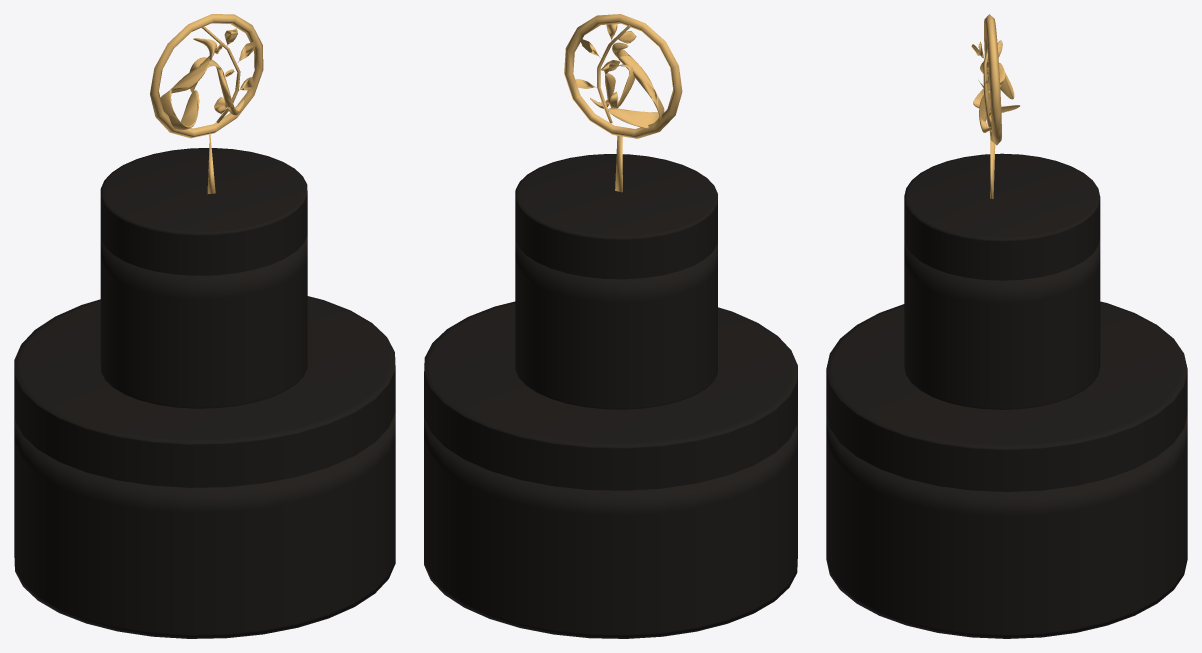
The model's file is 2-tier-black-none-ring.glb.
3 views of the same model, side by side, from view 1: azimuth 30°, elevation 25°; view 2: azimuth 150°, elevation 25°; view 3: azimuth 270°, elevation 25° (orthographic). The views are drawn at different scales.
Visible parts, largest first — view 1: Cylinder.023, Cylinder.013, Cylinder.011; view 2: Cylinder.023, Cylinder.013, Cylinder.011; view 3: Cylinder.023, Cylinder.013, Cylinder.011.
Part boxes in pixels (box(x1,y1,x2,y2)): Cylinder.023: box(14, 296, 395, 638); Cylinder.013: box(100, 148, 307, 408); Cylinder.011: box(150, 14, 263, 193); Cylinder.023: box(424, 301, 797, 638); Cylinder.013: box(515, 154, 717, 409); Cylinder.011: box(564, 14, 682, 192); Cylinder.023: box(826, 301, 1187, 638); Cylinder.013: box(904, 153, 1100, 409); Cylinder.011: box(971, 14, 1019, 198).
Bounding box in the file's own units: 3.4 × 5.36 × 3.27.
